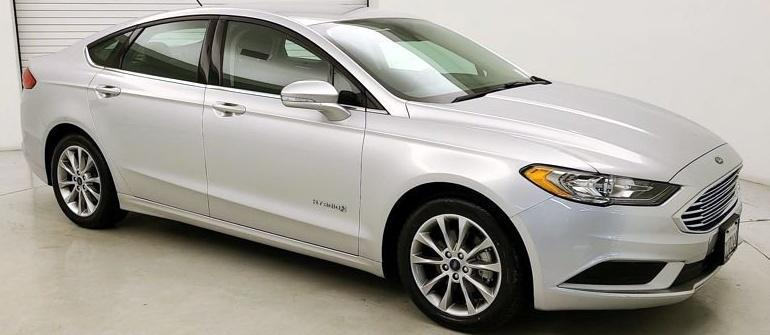Cars: (22, 10, 742, 332)
